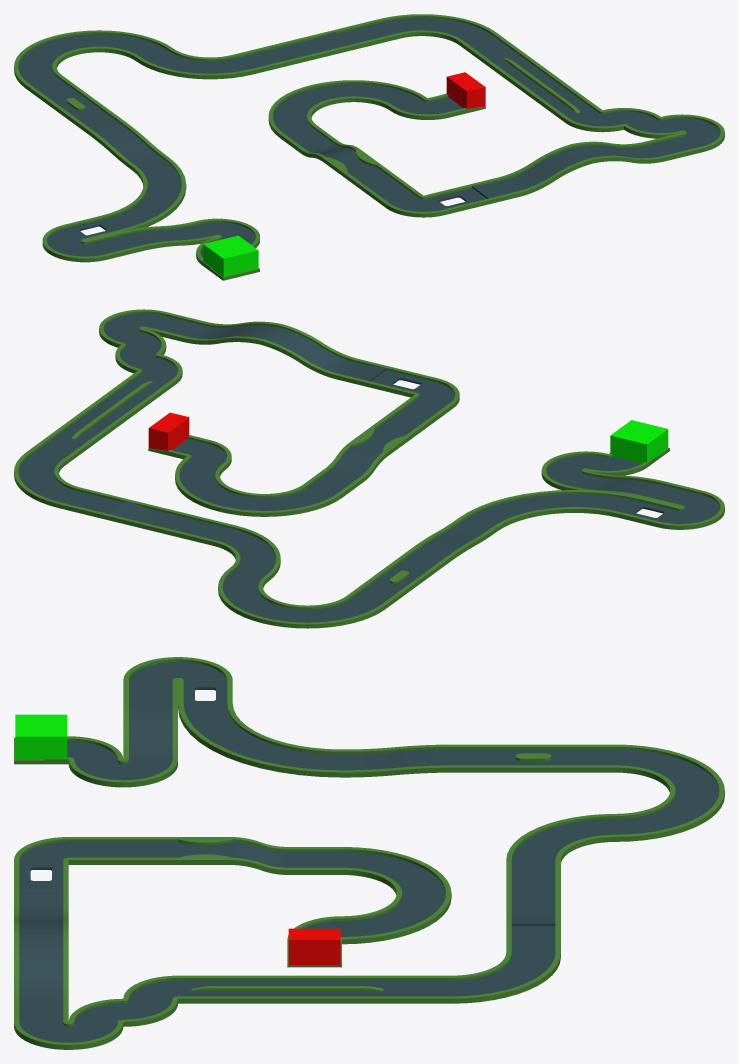
Rendered from track1.glb.
3 views of the same model, one above another, from view 1: azimuth 30°, elevation 25°; view 2: azimuth 150°, elevation 25°; view 3: azimuth 270°, elevation 25° (orthographic). The views are drawn at different scales.
Visible parts, largest first — view 1: bend_large (×6), straight (×11), bend (×10), slope_smoothD_long (×2), bend_larger%, straight_slope (×2), slope_smoothA_long, straight_mid (×2), straight_midEnd (×2), start_block, slope_smoothB_long, straight_hole (×2) (+5 smaller); view 2: bend_large (×6), straight (×11), bend (×12), slope_smoothD_long (×2), bend_larger%, straight_slope (×2), straight_mid (×2), straight_midEnd (×2), start_block, straight_hole (×2), slope_smoothA_long, slope_smoothB_long (+5 smaller); view 3: bend_large (×6), straight (×11), bend (×11), bend_larger%, slope_smoothD_long (×2), straight_mid (×2), straight_midEnd (×2), slope_smoothA_long, slope_smoothB_long, straight_slope (×2), start_block, straight_hole (×2) (+4 smaller).
Part boxes in pixels (box(x1,y1,x2,y2)): bend_large (×6): box(14, 14, 495, 137); straight (×11): box(25, 19, 703, 259); bend (×10): box(42, 98, 724, 262); slope_smoothD_long (×2): box(498, 141, 666, 196); bend_larger%: box(101, 157, 186, 231); straight_slope (×2): box(306, 28, 518, 205); slope_smoothA_long: box(89, 122, 168, 169); straight_mid (×2): box(501, 63, 580, 106); straight_midEnd (×2): box(480, 48, 602, 122); start_block: box(203, 235, 258, 277); slope_smoothB_long: box(122, 221, 216, 250); straight_hole (×2): box(64, 186, 481, 240); bend_large (×6): box(14, 452, 384, 628); straight (×11): box(26, 312, 701, 609); bend (×12): box(99, 309, 724, 529); slope_smoothD_long (×2): box(182, 321, 359, 379); bend_larger%: box(458, 490, 640, 531); straight_slope (×2): box(97, 359, 398, 526); straight_mid (×2): box(71, 387, 154, 432); straight_midEnd (×2): box(49, 370, 176, 449); start_block: box(610, 420, 668, 463); straight_hole (×2): box(376, 369, 679, 527); slope_smoothA_long: box(414, 518, 496, 559); slope_smoothB_long: box(564, 470, 663, 497); bend_large (×6): box(342, 744, 724, 1003); straight (×11): box(14, 680, 615, 1024); bend (×11): box(14, 657, 232, 1049); bend_larger%: box(178, 703, 341, 777); slope_smoothD_long (×2): box(14, 906, 68, 1001); straight_mid (×2): box(232, 975, 341, 1003); straight_midEnd (×2): box(178, 975, 396, 1003); slope_smoothA_long: box(342, 744, 451, 777); slope_smoothB_long: box(123, 703, 177, 761); straight_slope (×2): box(14, 883, 560, 931); start_block: box(15, 714, 67, 759); straight_hole (×2): box(14, 680, 232, 885).
Bounding box in the file's own units: 34 × 1.6 × 26.
